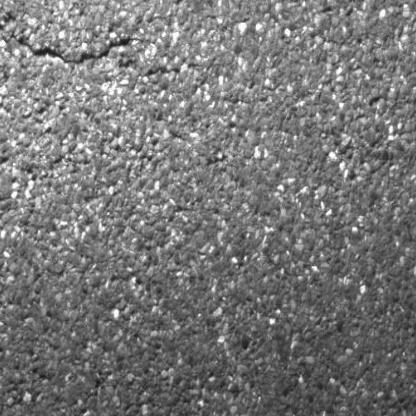Cracks: (0, 17, 137, 72)
